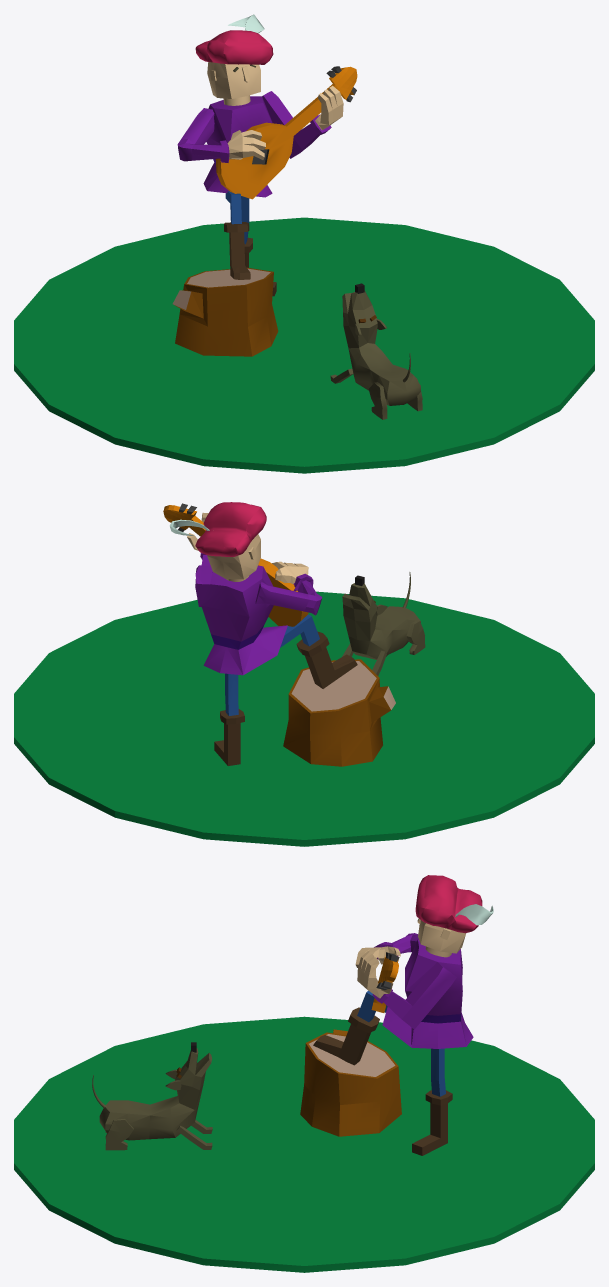
3 views of the same model, one above another, from view 1: azimuth 30°, elevation 25°; view 2: azimuth 150°, elevation 25°; view 3: azimuth 270°, elevation 25° (orthographic).
Parts seen in each view (by area): view 1: 3DSMeshMatrix (×10); view 2: 3DSMeshMatrix (×12); view 3: 3DSMeshMatrix (×12).
Boxes of the visible parts, left/top/right/bottom form: 3DSMeshMatrix (×10): left=14, top=30, right=594, bottom=473; 3DSMeshMatrix (×12): left=14, top=502, right=594, bottom=846; 3DSMeshMatrix (×12): left=14, top=875, right=594, bottom=1272.
Size of the model in its own units: 148 by 74.28 by 146.
